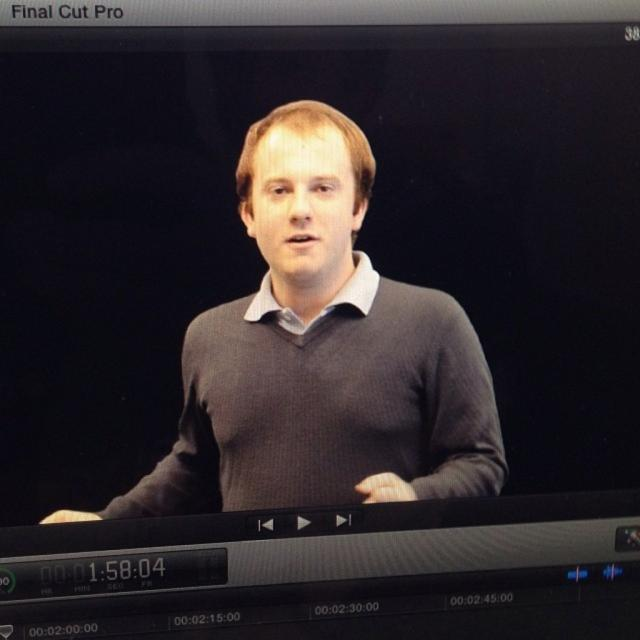no_helmet: (229, 95, 377, 165)
